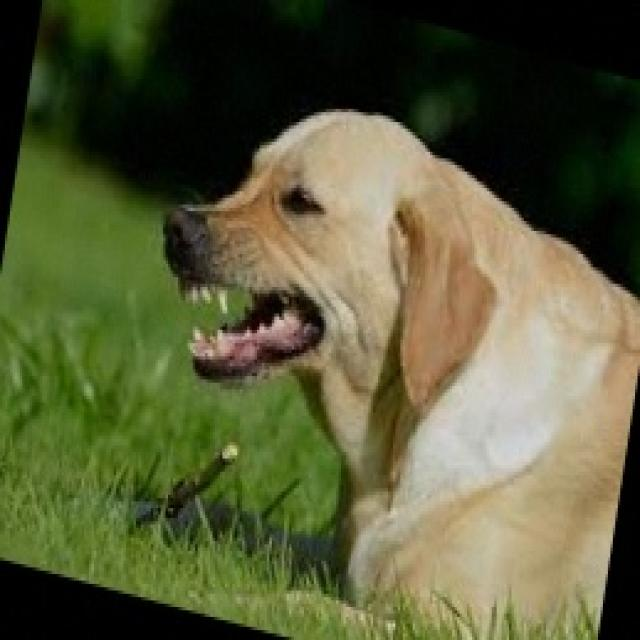angry: (139, 56, 639, 640)
